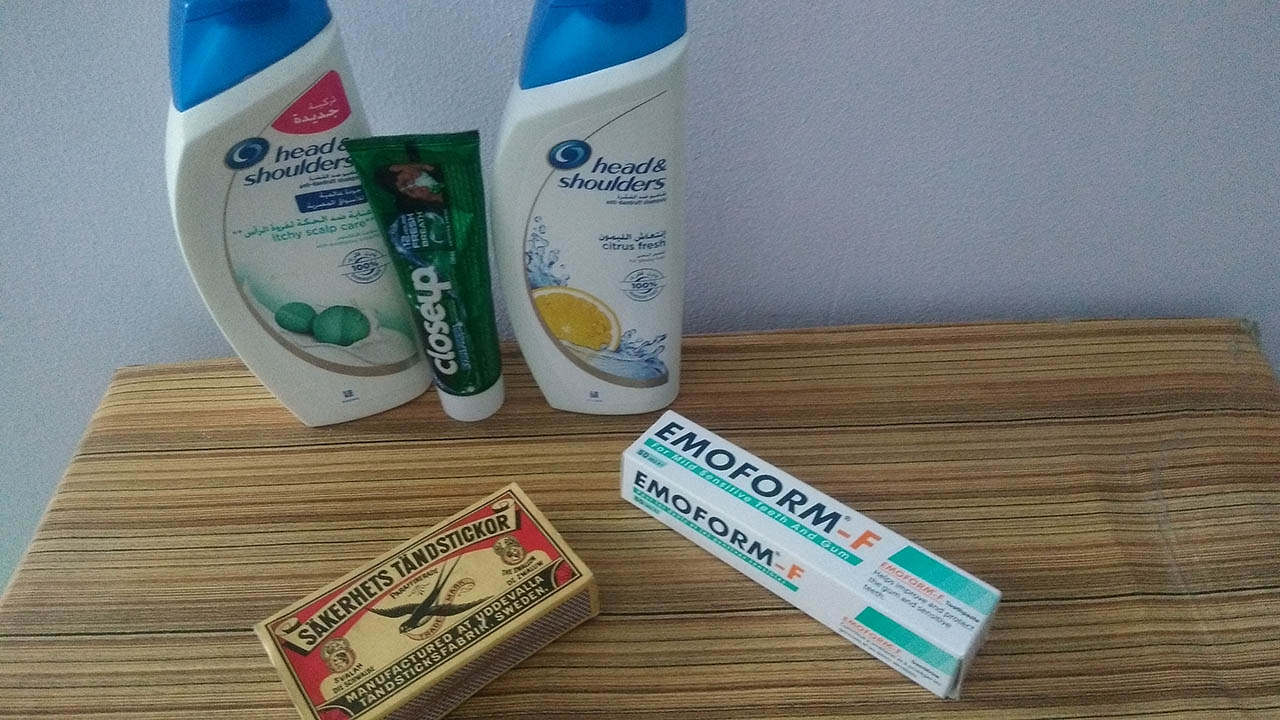Toothpaste-Closeup 3.04$: (373, 104, 505, 422)
Toothpaste-F 1.5$: (622, 406, 1011, 703)
match-sticks .90$: (259, 470, 599, 720)
shampoo-Lemon 3.5$: (508, 1, 685, 412)
shampoo-green 4.5$: (146, 2, 405, 431)
